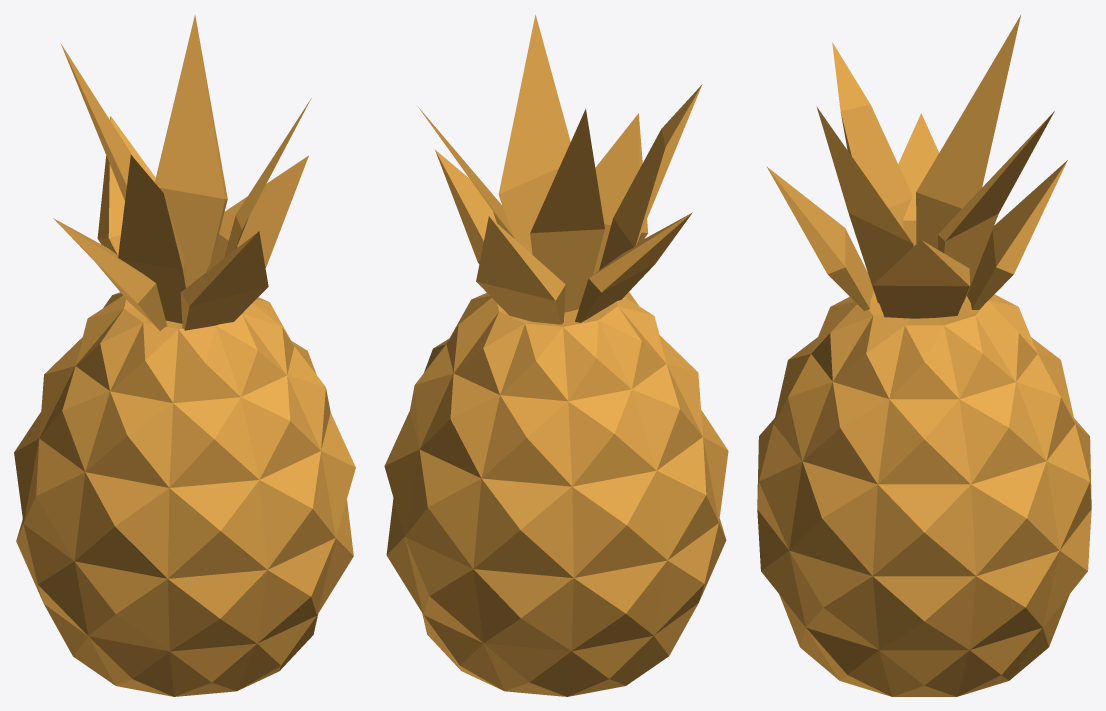
The model's file is pineapple.fbx.
3 renders of one model, left to right at view 1: azimuth 30°, elevation 25°; view 2: azimuth 150°, elevation 25°; view 3: azimuth 270°, elevation 25°, orthographic.
Parts seen in each view (by area): view 1: pineapple; view 2: pineapple; view 3: pineapple.
Part boxes in pixels (x1,y1,x2,y2): pineapple: [14, 14, 355, 696]; pineapple: [384, 14, 728, 696]; pineapple: [757, 15, 1091, 696].
Bounding box in the file's own units: 0.194 × 0.3779 × 0.1864.
